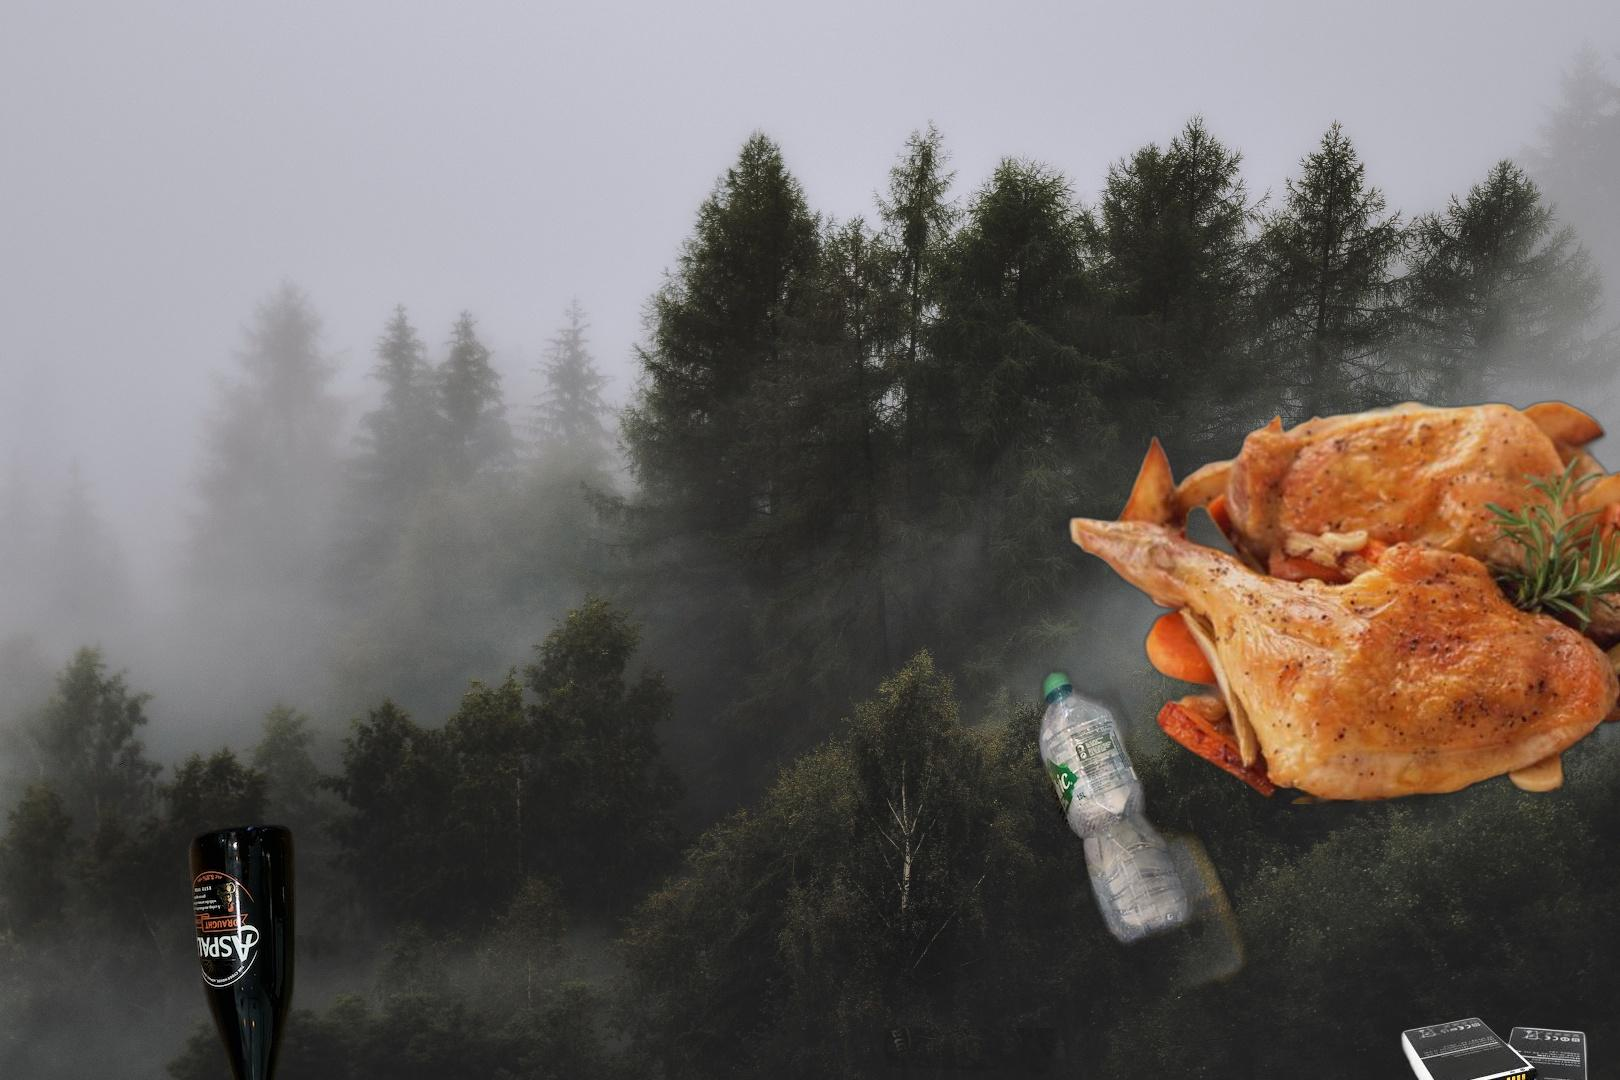battery: (1397, 1015, 1601, 1080)
biological: (1061, 395, 1620, 804)
glass: (184, 820, 299, 1080)
plastic-bottles: (742, 607, 1254, 1080)
trashbox-cardboard: (881, 1028, 1286, 1080)
